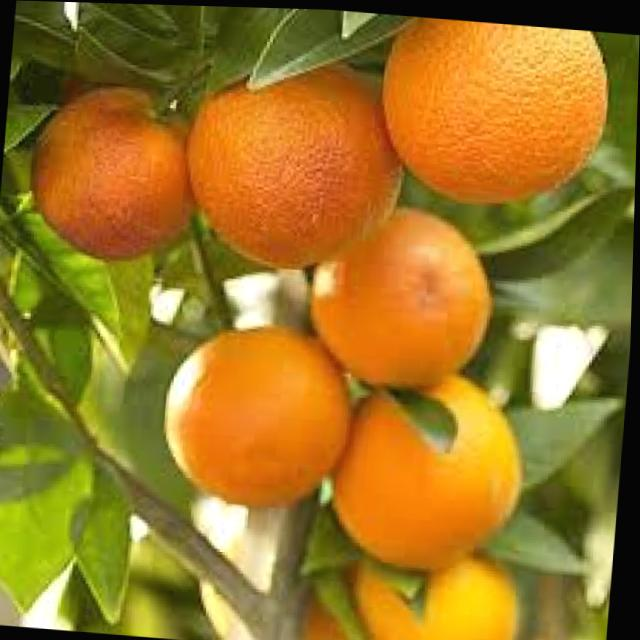orange: (179, 56, 406, 273), (376, 14, 607, 208), (328, 366, 531, 572), (159, 318, 361, 513), (308, 201, 498, 393), (27, 83, 202, 264), (354, 545, 528, 640)
